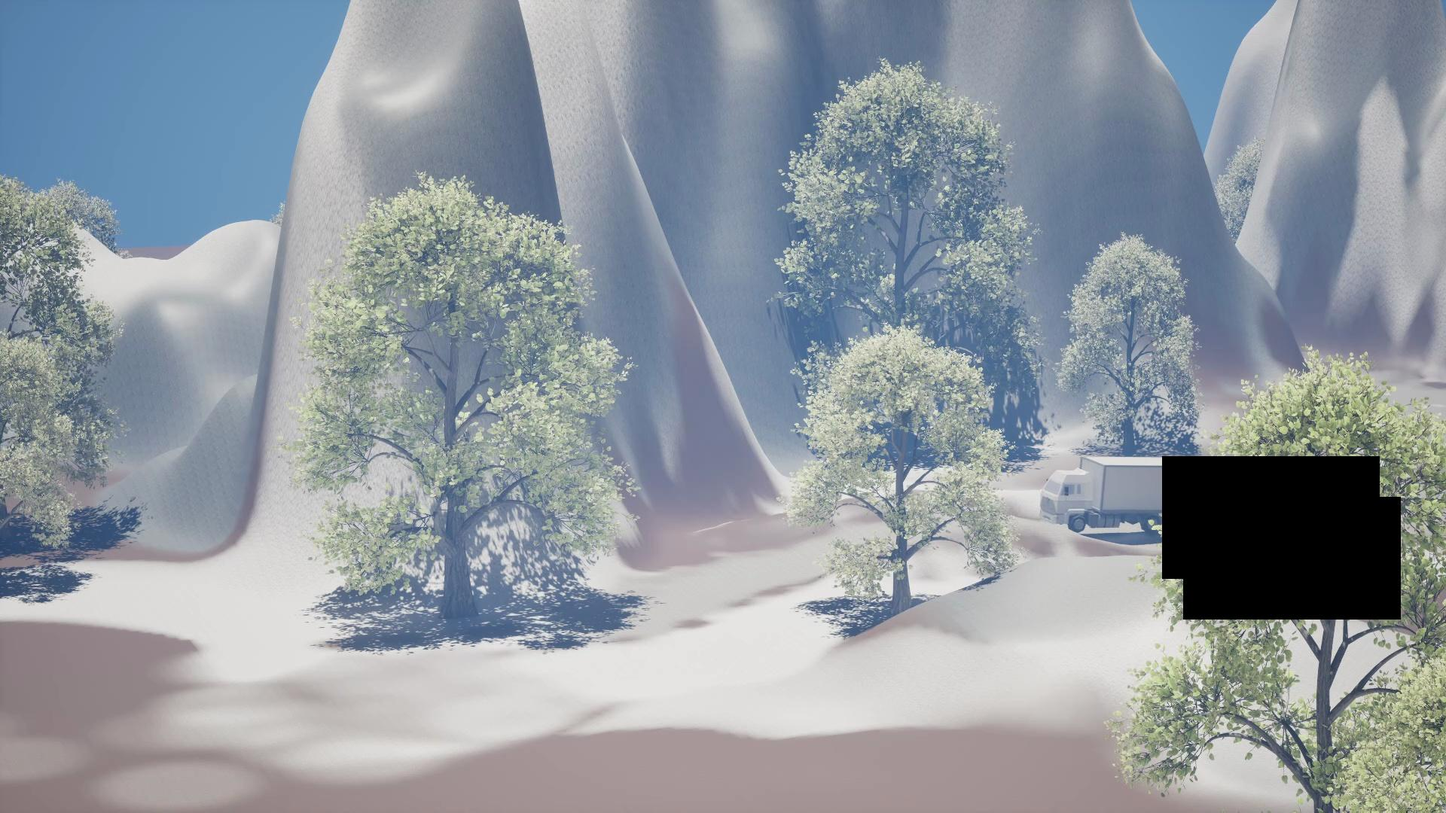truck: (1040, 457, 1179, 528)
